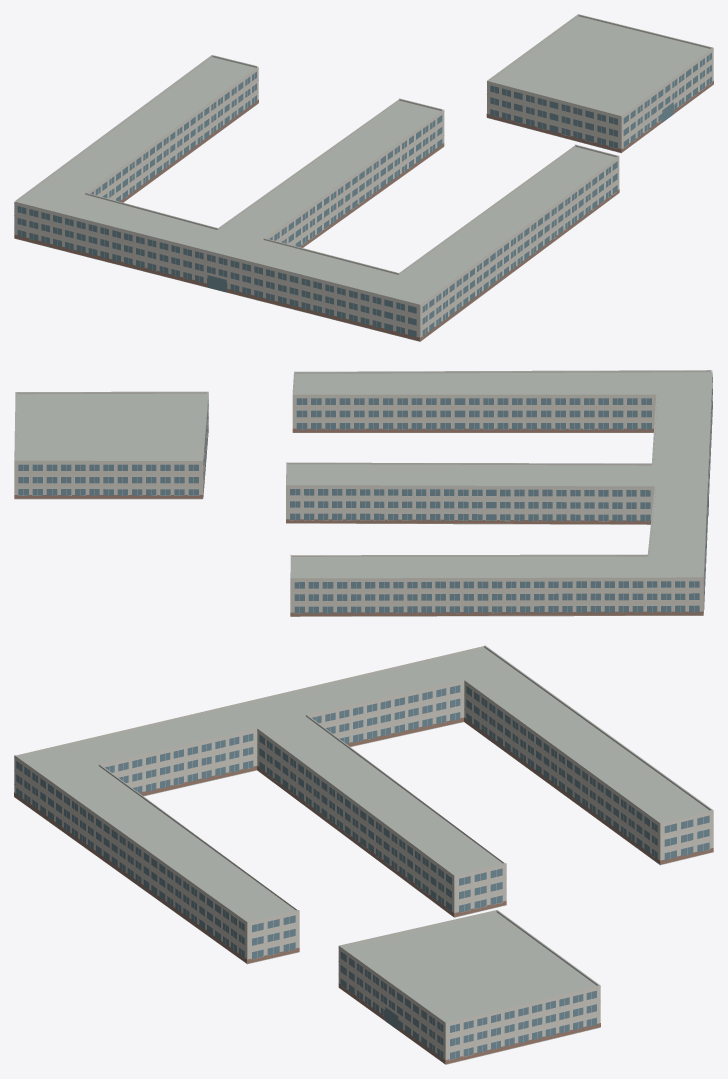
File: public-6230a84a-4432-4ac7-8aeb-bc3d5abaa31a.glb
3 views of the same model, one above another, from view 1: azimuth 30°, elevation 25°; view 2: azimuth 150°, elevation 25°; view 3: azimuth 270°, elevation 25° (orthographic). The views are drawn at different scales.
Parts seen in each view (by area): view 1: public-6230a84a-4432-4ac7-8aeb-bc3d5abaa31a; view 2: public-6230a84a-4432-4ac7-8aeb-bc3d5abaa31a; view 3: public-6230a84a-4432-4ac7-8aeb-bc3d5abaa31a.
Boxes of the visible parts, left/top/right/bottom form: public-6230a84a-4432-4ac7-8aeb-bc3d5abaa31a: left=14, top=14, right=713, bottom=341; public-6230a84a-4432-4ac7-8aeb-bc3d5abaa31a: left=14, top=370, right=712, bottom=616; public-6230a84a-4432-4ac7-8aeb-bc3d5abaa31a: left=14, top=645, right=713, bottom=1064.
Size of the model in its own units: 176 by 9.15 by 138.
